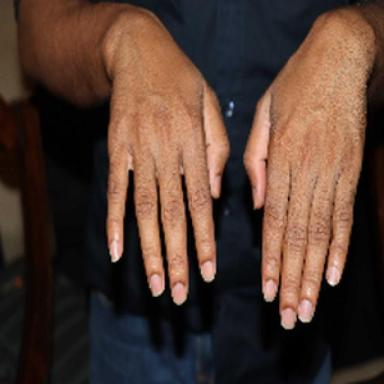normal skin: (19, 0, 229, 303), (244, 7, 378, 329)
